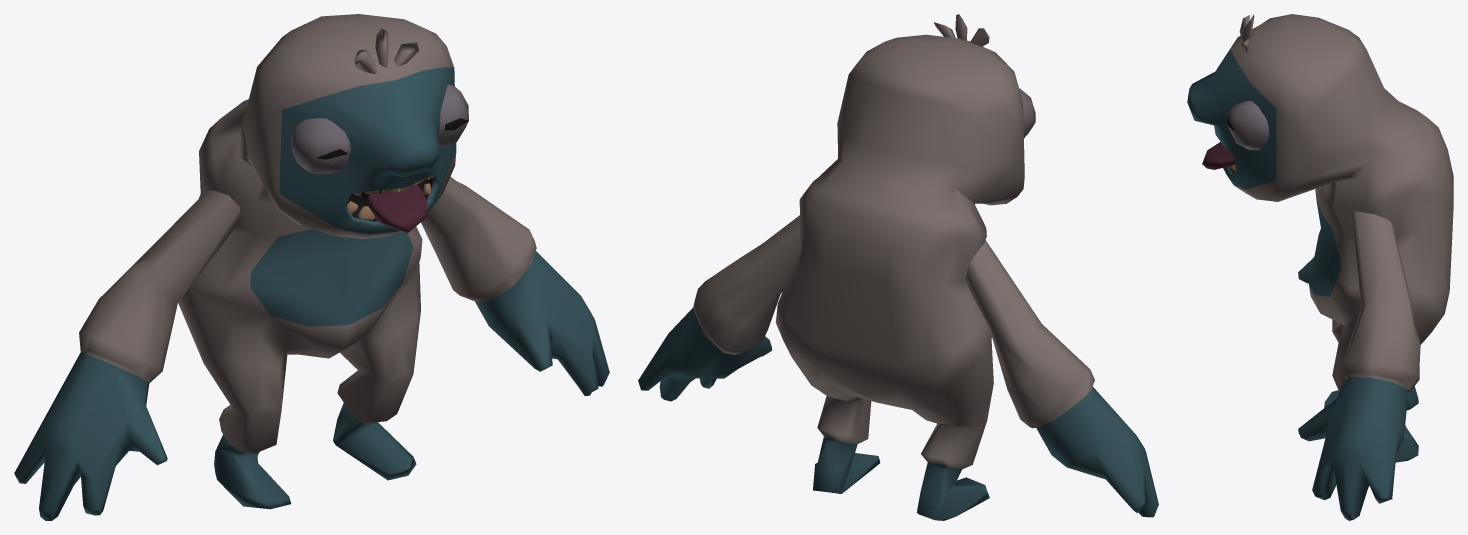
The model's file is enemy-golem.glb.
The picture shows the model from 3 angles, left to right: view 1: azimuth 30°, elevation 25°; view 2: azimuth 150°, elevation 25°; view 3: azimuth 270°, elevation 25°; orthographic projection. The views are drawn at different scales.
Parts seen in each view (by area): view 1: enemy:golem; view 2: enemy:golem; view 3: enemy:golem.
Boxes of the visible parts, box(x1,y1,x2,y2) form: enemy:golem: box(14, 14, 609, 520); enemy:golem: box(638, 14, 1158, 520); enemy:golem: box(1187, 14, 1453, 520).
Size of the model in its own units: 2.07 by 1.7 by 0.9833.
Materials: 1 (1 with a texture image).
